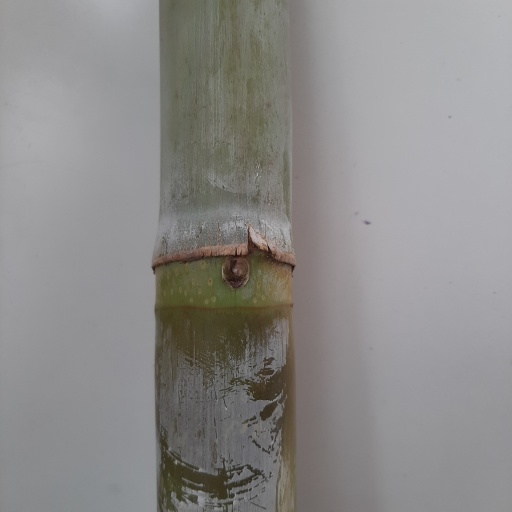Bud: (221, 256, 250, 289)
